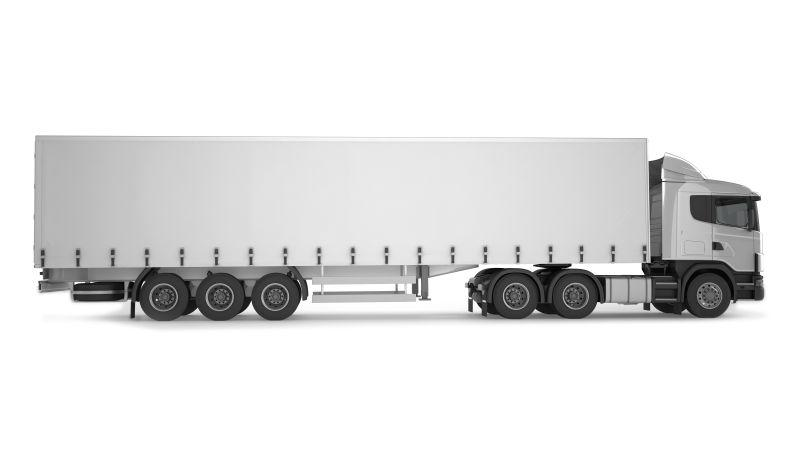truck: (3, 123, 773, 325)
